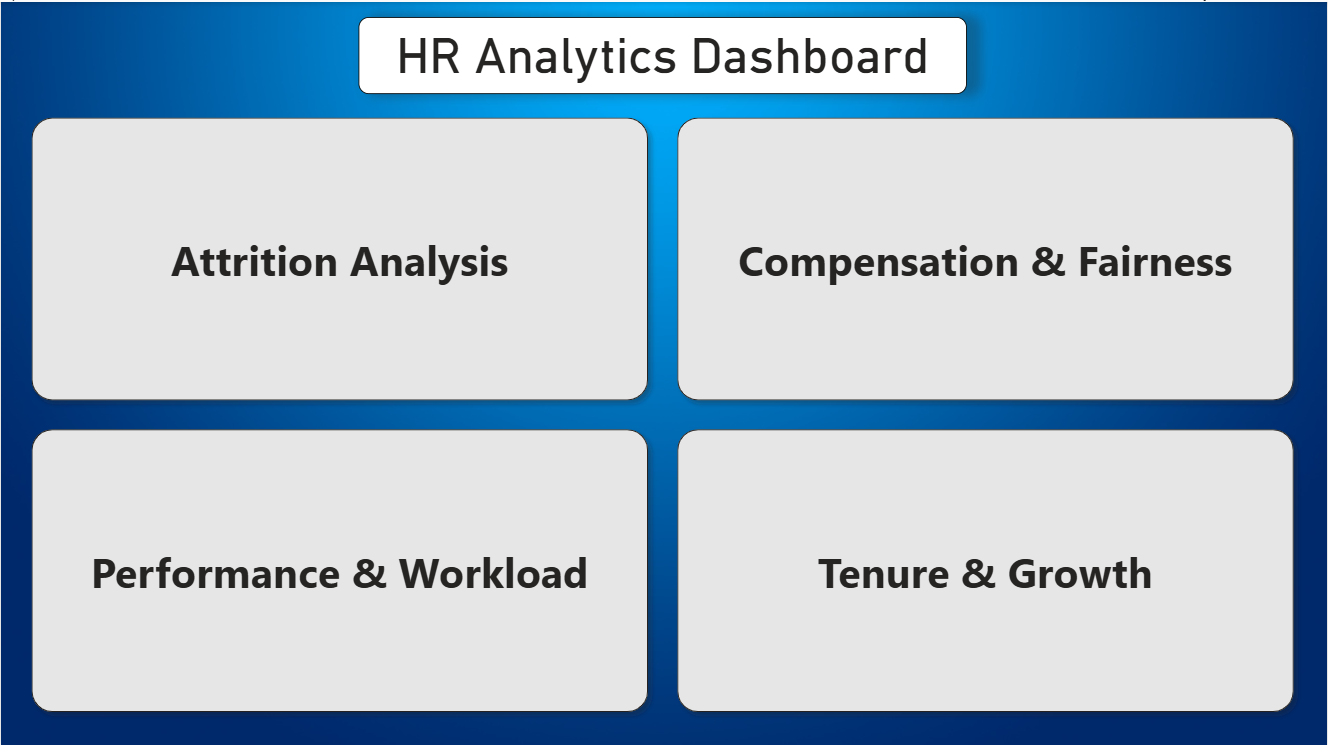

The dashboard page shown, as its layout file describes it:
{"tool":"powerbi","page":{"name":"Home","canvas":[1280,720],"ordinal":0},"visuals":[{"type":"textbox","box":[345,14.5,587.5,74.8],"z":0},{"type":"pageNavigator","box":[20.5,102.5,1236.6,593.6],"z":1000}]}

Visuals, with their boxes in screenshot pixels (x1, y1, x2, y2), scaled from the page's 1280x720 canvas onto the 1328x745 screenshot:
textbox: (x1=358, y1=15, x2=967, y2=92)
pageNavigator: (x1=21, y1=106, x2=1304, y2=720)
